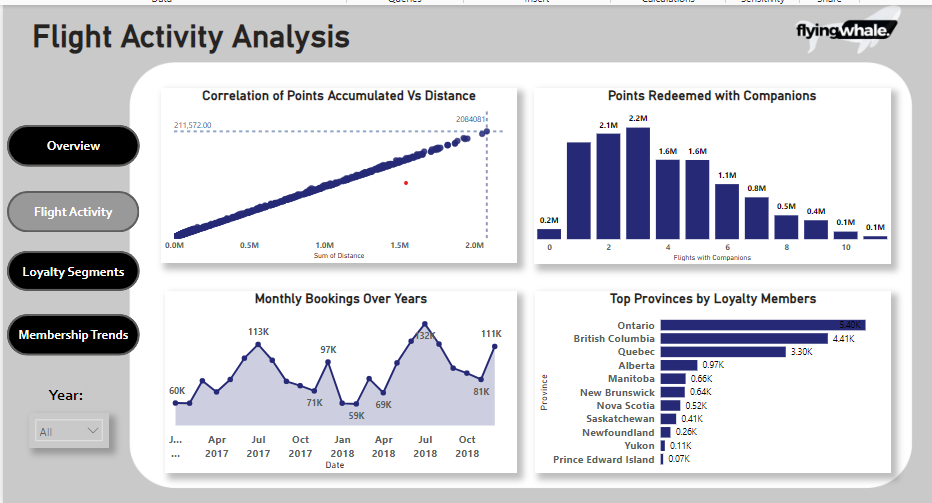

This screenshot's page, from the dashboard's own definition file:
{"tool":"powerbi","page":{"name":"Flight Activity","canvas":[1430,768],"ordinal":1},"visuals":[{"type":"textbox","title":"Company Title","box":[40,14,644,68],"z":0},{"type":"actionButton","title":"Membership Trend","box":[6,473.8,203.8,63.8],"z":0,"group":"g1"},{"type":"slicer","title":"Year Slicer","fields":{"Values":["Datetable.Date.Variation.Date Hierarchy.Year"]},"box":[40,626.6,123.3,53.3],"z":0,"group":"g2"},{"type":"group","id":"g1","title":"Pages","box":[6,183.8,204,353.8],"z":1000},{"type":"actionButton","title":"Loyalty Segment","box":[6,377.5,203.8,61.2],"z":1000,"group":"g1"},{"type":"textbox","title":"Year Text","box":[65,578.3,73.3,36.7],"z":1000,"group":"g2"},{"type":"scatterChart","title":"Correlation of Points Accumulated Vs Distance","fields":{"X":["Sum(Customer Flight Activity.Distance)"],"Y":["Customer Flight Activity.Points Accumulated"],"Category":["Customer Flight Activity.Points Accumulated1"]},"box":[242.9,127.1,547.1,268.6],"z":2000},{"type":"actionButton","title":"Flight Activity","box":[6.7,285,203.3,63.3],"z":2000,"group":"g1"},{"type":"columnChart","title":"Points Redeemed with Companions","fields":{"Category":["Customer Flight Activity.Flights with Companions"],"Y":["Sum(Customer Flight Activity.Points Redeemed)"]},"box":[816.2,127.5,547.5,271.2],"z":3000},{"type":"actionButton","title":"Overview","box":[6.3,183.8,203.8,63.8],"z":3000,"group":"g1"},{"type":"areaChart","title":"Monthly Bookings Over Years","fields":{"Category":["Datetable.Date.Variation.Date Hierarchy.Year"],"Y":["Sum(Customer Flight Activity.Total Flights)"]},"box":[249.6,439.1,540.5,279.6],"z":4000},{"type":"group","id":"g2","title":"Year","box":[40,578.3,123.3,101.7],"z":5000},{"type":"barChart","title":"Top Provinces by Loyalty Members","fields":{"Category":["Customer Loyalty History.Province"],"Y":["CountNonNull(Customer Loyalty History.Loyalty Number)"]},"box":[816.5,439.8,547.4,279.8],"z":6000}]}

Visuals, with their boxes on the page's 1430x768 design canvas (x1, y1, x2, y2). These are canvas units, not pixel positions in the 932x503 screenshot, which may show the page scaled, cropped or inside an application window:
"Company Title" textbox: (x1=40, y1=14, x2=684, y2=82)
"Membership Trend" actionButton: (x1=6, y1=474, x2=210, y2=538)
"Year Slicer" slicer: (x1=40, y1=627, x2=163, y2=680)
"Pages" group: (x1=6, y1=184, x2=210, y2=538)
"Loyalty Segment" actionButton: (x1=6, y1=378, x2=210, y2=439)
"Year Text" textbox: (x1=65, y1=578, x2=138, y2=615)
"Correlation of Points Accumulated Vs Distance" scatterChart: (x1=243, y1=127, x2=790, y2=396)
"Flight Activity" actionButton: (x1=7, y1=285, x2=210, y2=348)
"Points Redeemed with Companions" columnChart: (x1=816, y1=128, x2=1364, y2=399)
"Overview" actionButton: (x1=6, y1=184, x2=210, y2=248)
"Monthly Bookings Over Years" areaChart: (x1=250, y1=439, x2=790, y2=719)
"Year" group: (x1=40, y1=578, x2=163, y2=680)
"Top Provinces by Loyalty Members" barChart: (x1=816, y1=440, x2=1364, y2=720)
